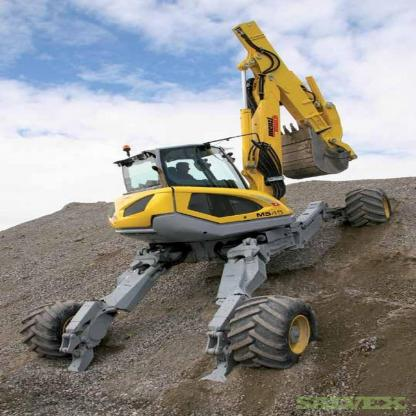excavator: (4, 18, 396, 363)
